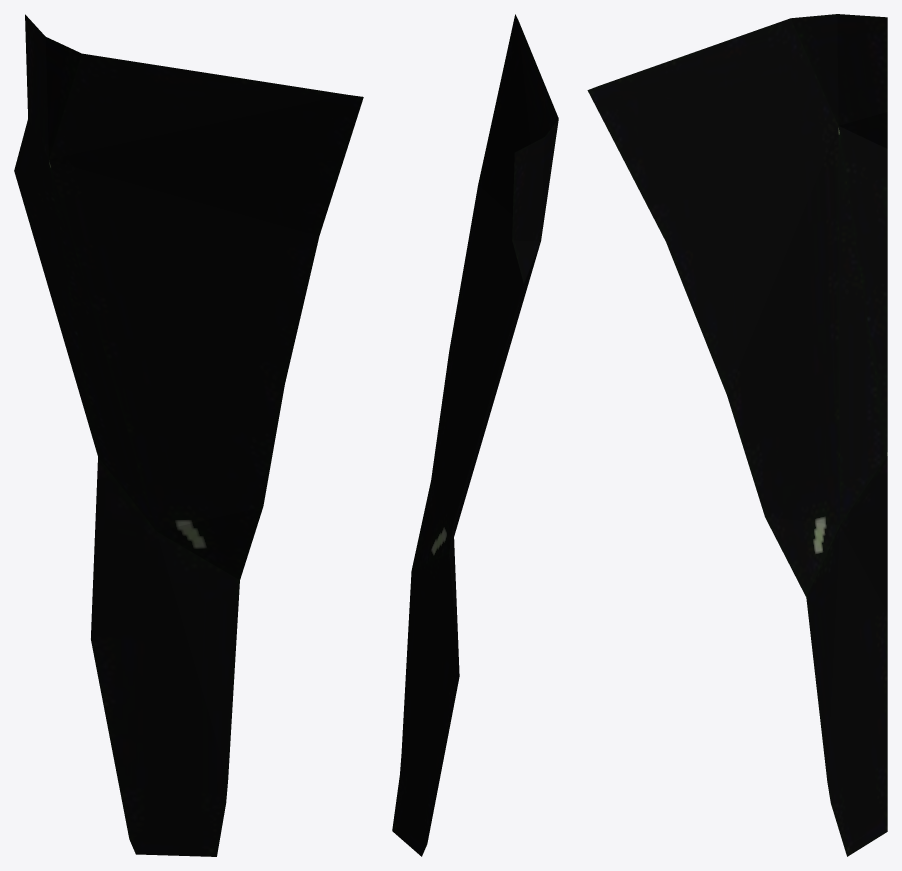
3 renders of one model, left to right at view 1: azimuth 30°, elevation 25°; view 2: azimuth 150°, elevation 25°; view 3: azimuth 270°, elevation 25°, orthographic. The views are drawn at different scales.
Bounding box in the file's own units: 0.6403 × 2.95 × 1.05.
Materials: 1 (1 with a texture image).
